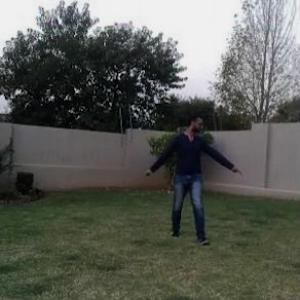land: (142, 100, 248, 244)
